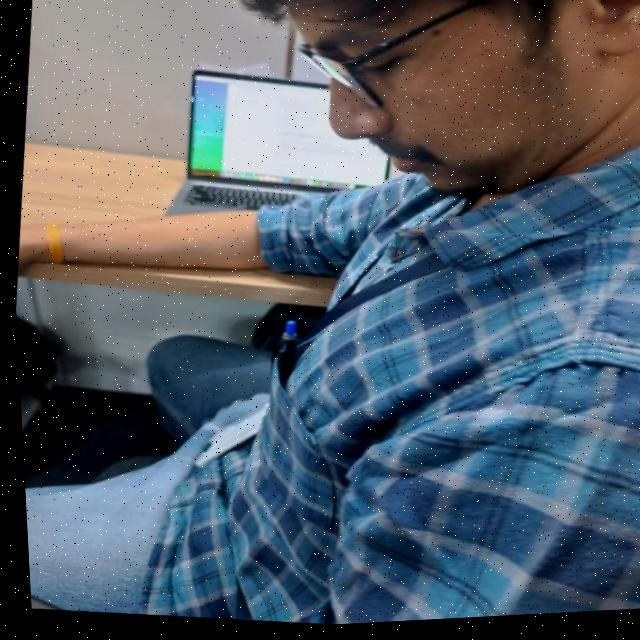id_card: (181, 170, 486, 503)
